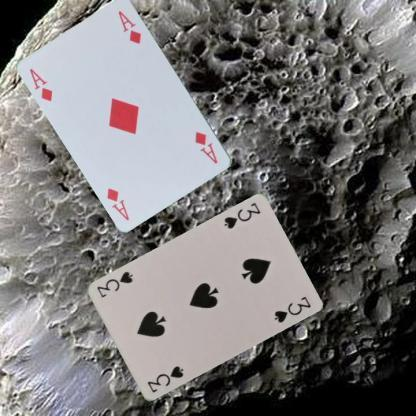3s: (221, 200, 262, 231), (144, 364, 185, 394)
Ad: (26, 66, 54, 103), (192, 129, 220, 165)
